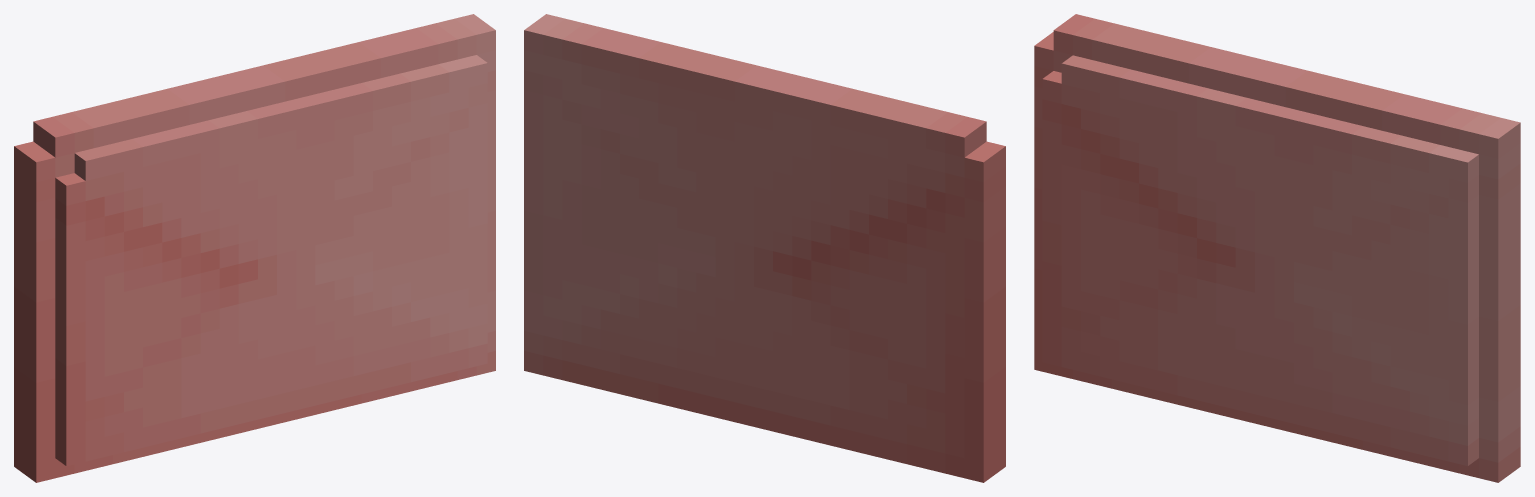
The model's file is envelope-red.glb.
3 views of the same model, side by side, from view 1: azimuth 30°, elevation 25°; view 2: azimuth 150°, elevation 25°; view 3: azimuth 330°, elevation 25° (orthographic).
Parts seen in each view (by area): view 1: prop; view 2: prop; view 3: prop.
Part boxes in pixels (x1,y1,x2,y2): prop: (14,14,495,482); prop: (524,14,1005,482); prop: (1034,14,1520,482).
Bounding box in the file's own units: 15.53 × 11 × 1.94.
